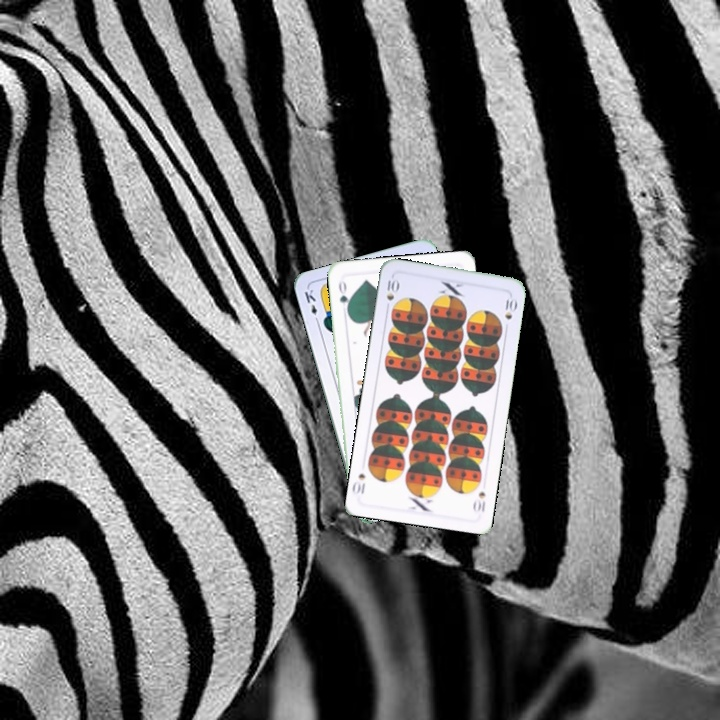EK: (300, 285, 321, 326)
GO: (334, 277, 352, 316)
S10: (382, 273, 401, 313), (469, 487, 488, 515)
